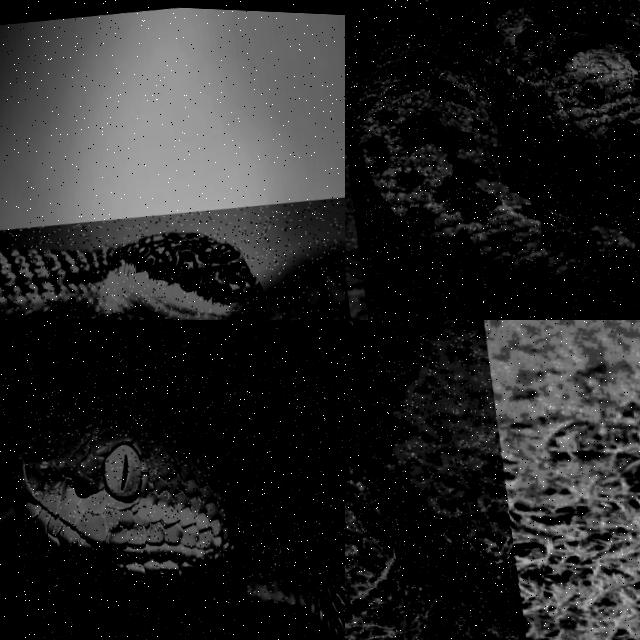Chrysopelea ornata: (0, 234, 263, 319)
Naja siamensis: (345, 320, 519, 639)
Ovophis monticola: (345, 0, 639, 286)
Trimeresurus macrops: (7, 320, 344, 639)
